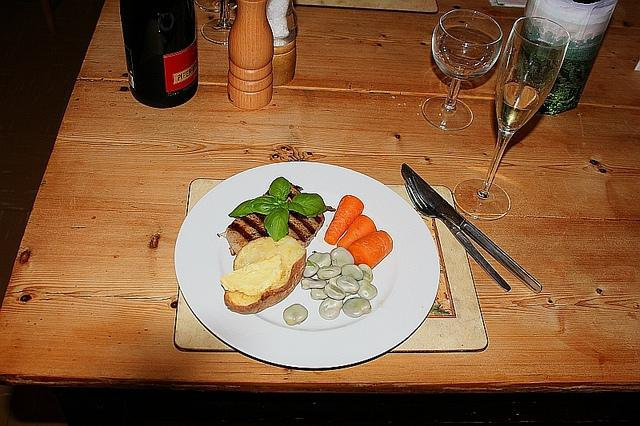carrot: (324, 195, 364, 246), (348, 230, 393, 270), (338, 215, 377, 250)
potato: (225, 236, 306, 314)
